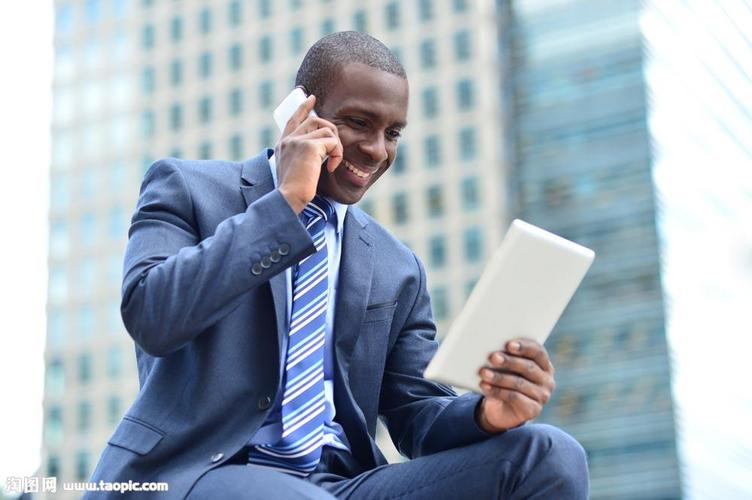calling: (269, 85, 346, 203)
